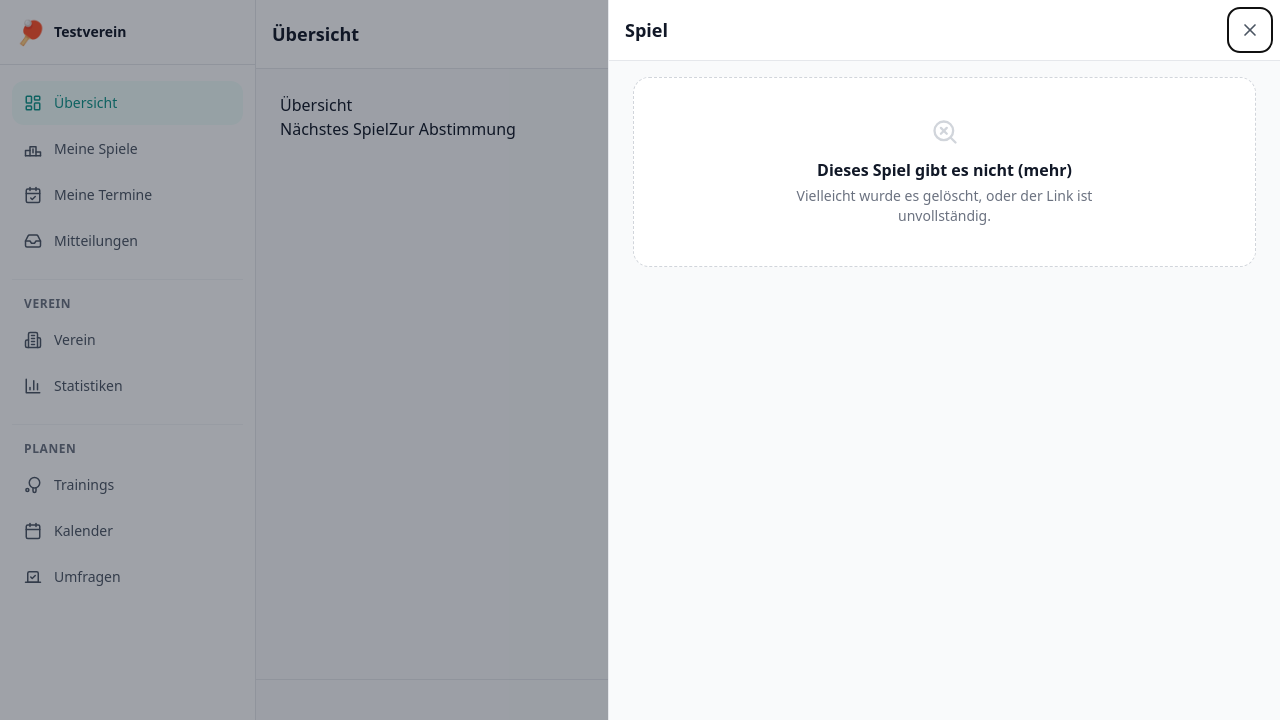
it: Einzelansicht als Blatt › ohne eigenen Verlaufseintrag nimmt Schließen nur den Parameter weg
Click the button named "Schließen".
click(1250, 30)  # box top-left (1228, 8), bottom-right (1272, 52)
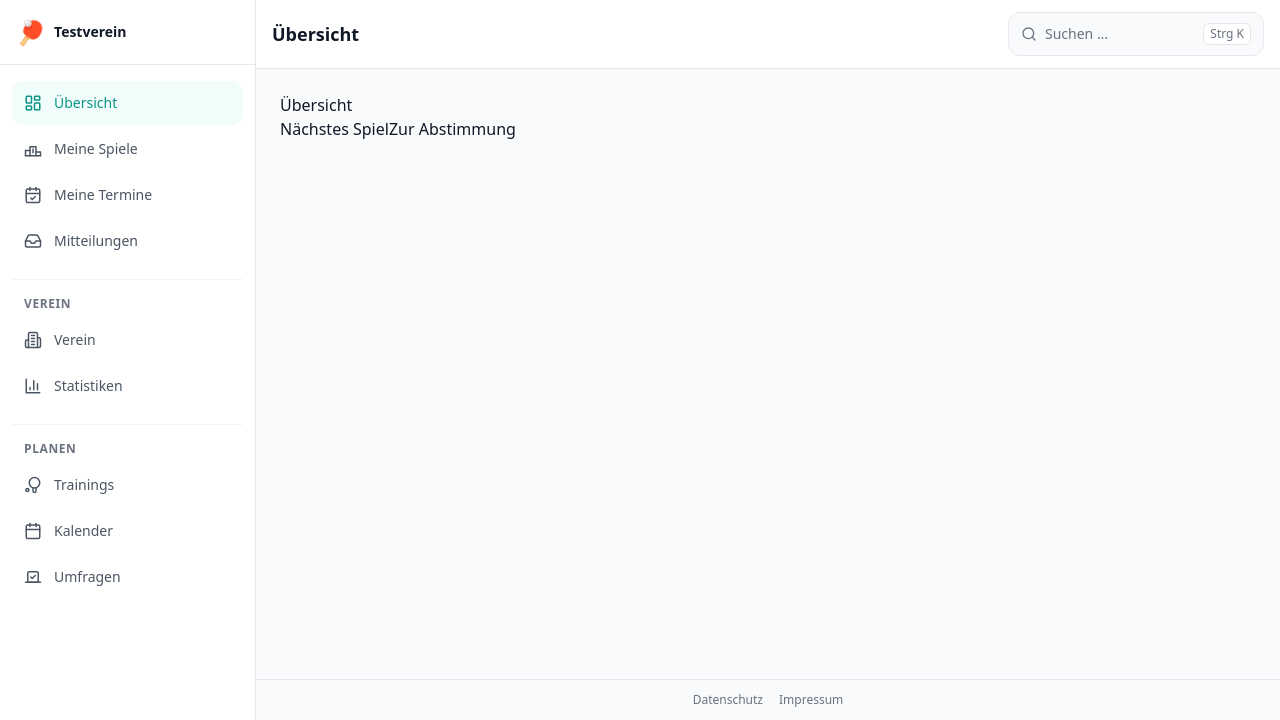
Result: the dialog is gone
